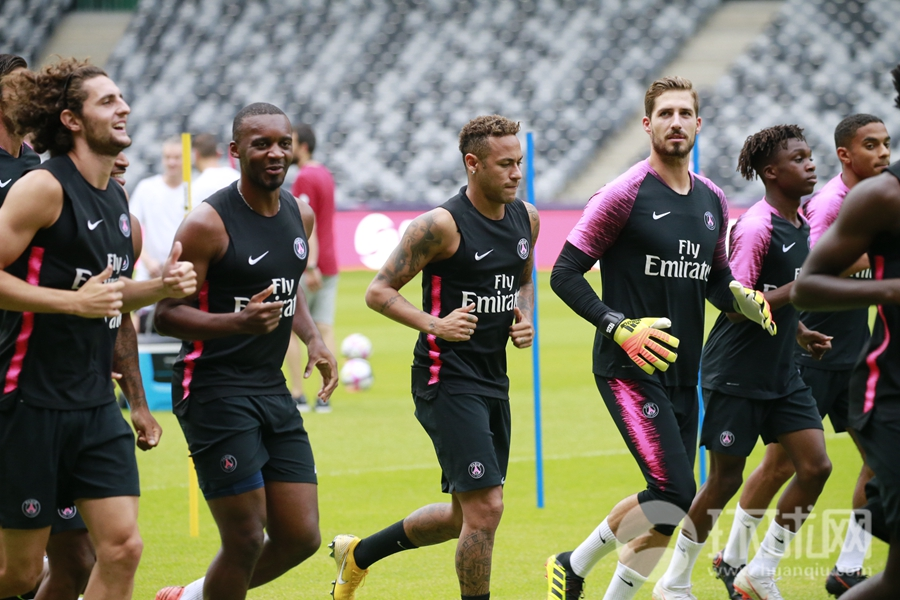person: (548, 64, 770, 597), (157, 100, 347, 595), (359, 97, 547, 594), (1, 62, 165, 578), (680, 109, 842, 600)
